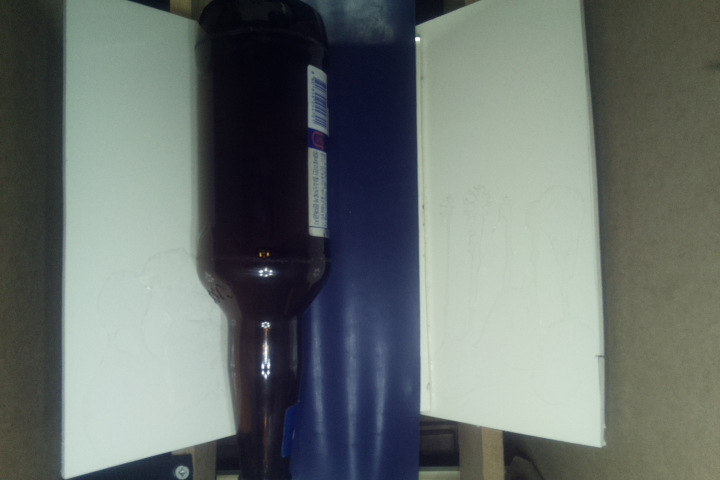makju: (194, 1, 328, 477)
